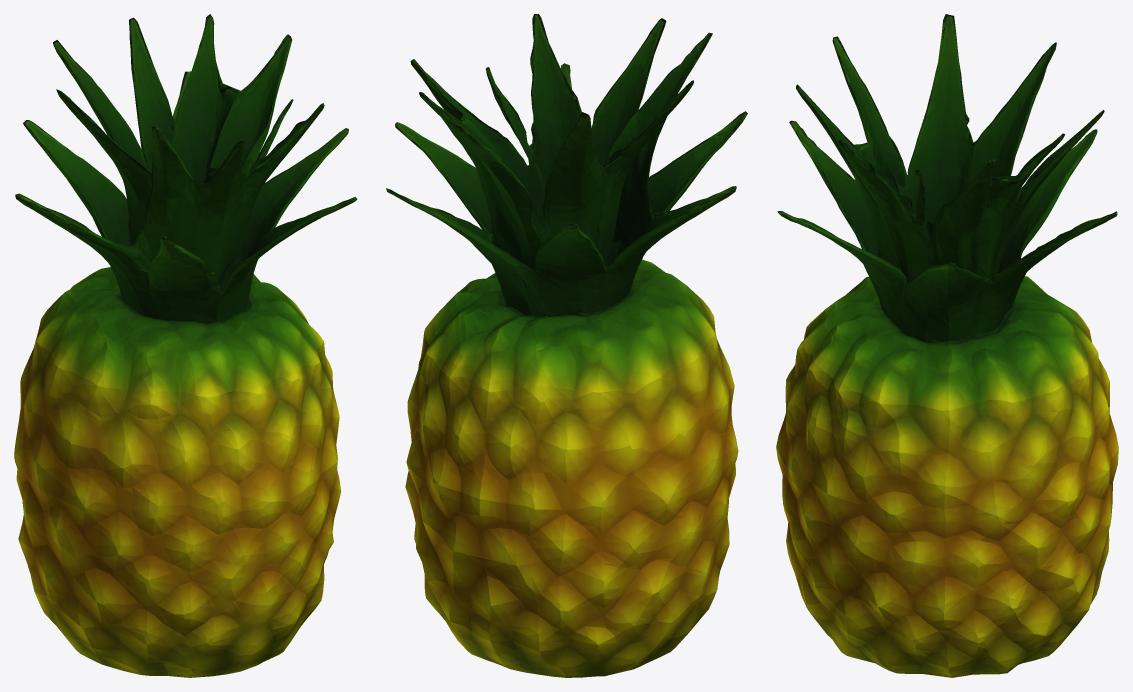
Rendered from pineapple.glb.
The picture shows the model from 3 angles, left to right: view 1: azimuth 30°, elevation 25°; view 2: azimuth 150°, elevation 25°; view 3: azimuth 270°, elevation 25°; orthographic projection. The views are drawn at different scales.
Parts seen in each view (by area): view 1: world; view 2: world; view 3: world.
Boxes of the visible parts, x1,y1,x2,y2 form: world: (14,14,357,677); world: (386,14,747,677); world: (776,14,1118,677).
Bounding box in the file's own units: 0.5946 × 0.9979 × 0.5363.
Materials: 1 (1 with a texture image).
